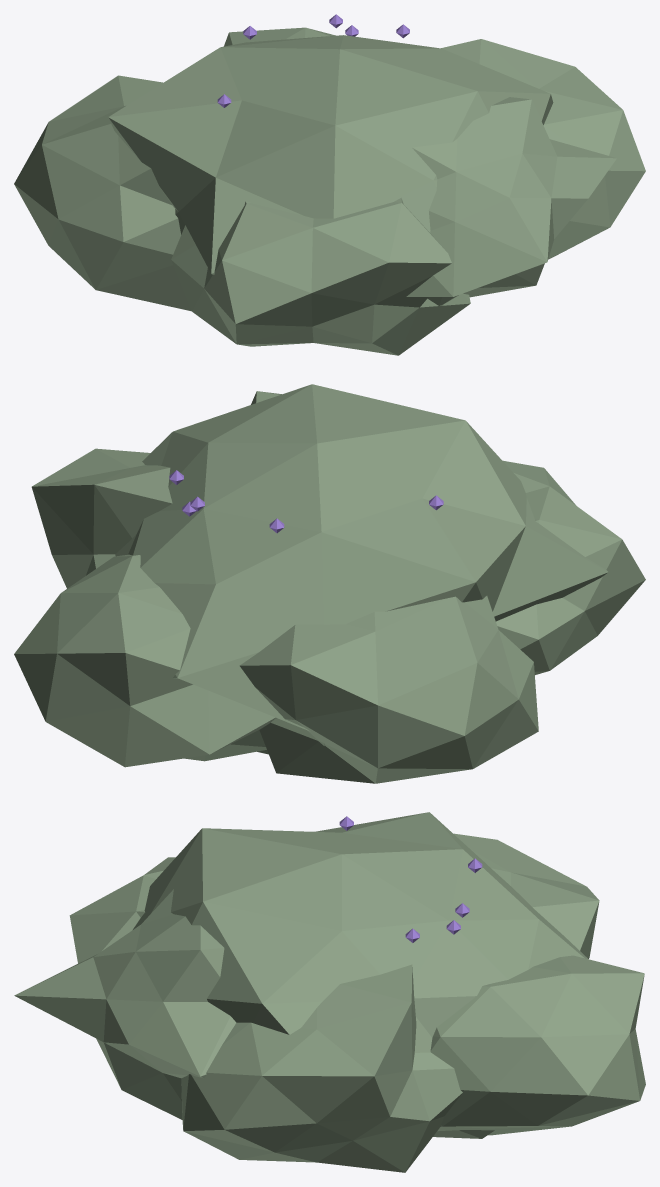
Rendered from sage.glb.
The picture shows the model from 3 angles, top to bottom: view 1: azimuth 30°, elevation 25°; view 2: azimuth 150°, elevation 25°; view 3: azimuth 270°, elevation 25°; orthographic projection. The views are drawn at different scales.
Visible parts, largest first — view 1: sage; view 2: sage; view 3: sage.
Part boxes in pixels (left/top/right/bottom): sage: left=14, top=14, right=645, bottom=355; sage: left=14, top=384, right=645, bottom=783; sage: left=14, top=812, right=645, bottom=1172.
Bounding box in the file's own units: 0.856 × 0.4254 × 0.9232.
